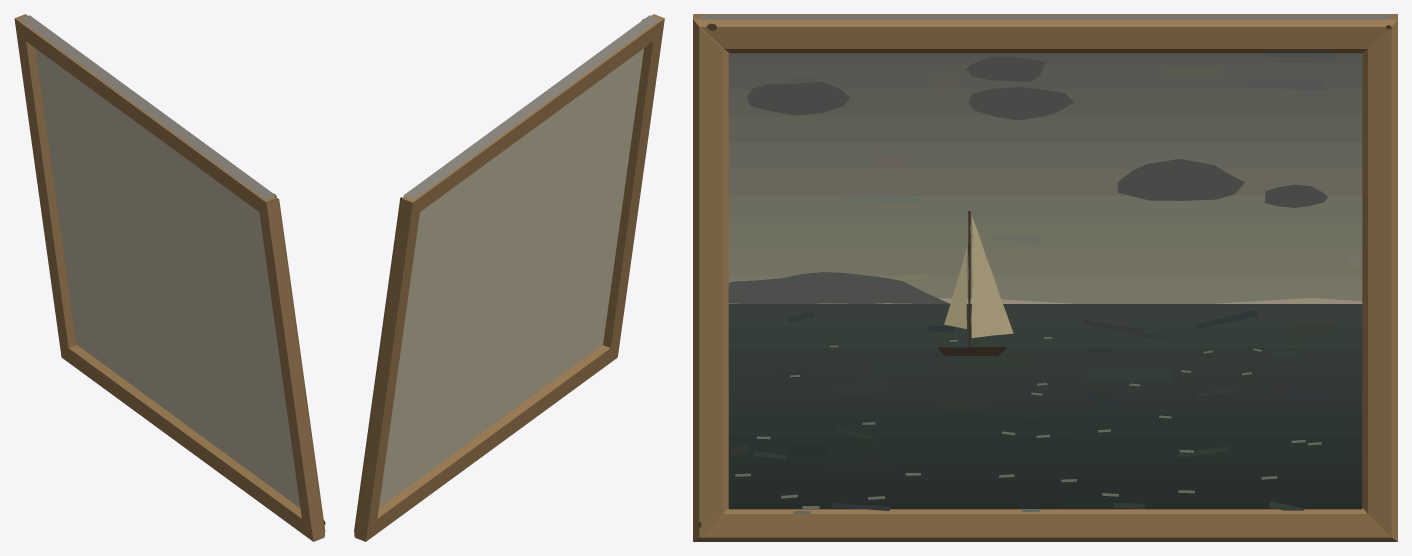
File: painting_lean_c.glb
The picture shows the model from 3 angles, left to right: view 1: azimuth 30°, elevation 25°; view 2: azimuth 150°, elevation 25°; view 3: azimuth 270°, elevation 25°; orthographic projection. The views are drawn at different scales.
Parts seen in each view (by area): view 1: bild; view 2: bild; view 3: bild.
Boxes of the visible parts, left/top/right/bottom form: bild: left=14, top=14, right=325, bottom=541; bild: left=354, top=14, right=664, bottom=541; bild: left=693, top=14, right=1397, bottom=541.
Size of the model in its own units: 0.1431 by 0.6873 by 0.89.
